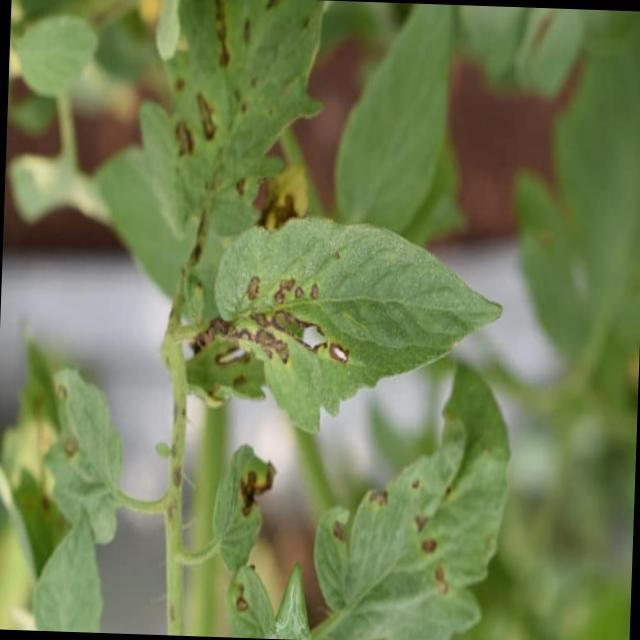Bacterial Spot: (210, 255, 384, 385), (167, 0, 255, 199), (380, 467, 468, 610)
